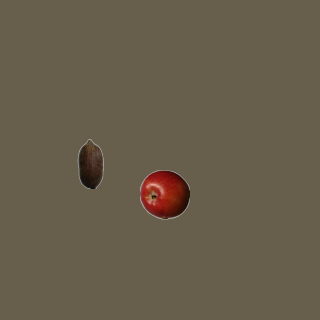Apple Braeburn: (139, 169, 189, 219)
Nut Pecan: (65, 138, 115, 188)
